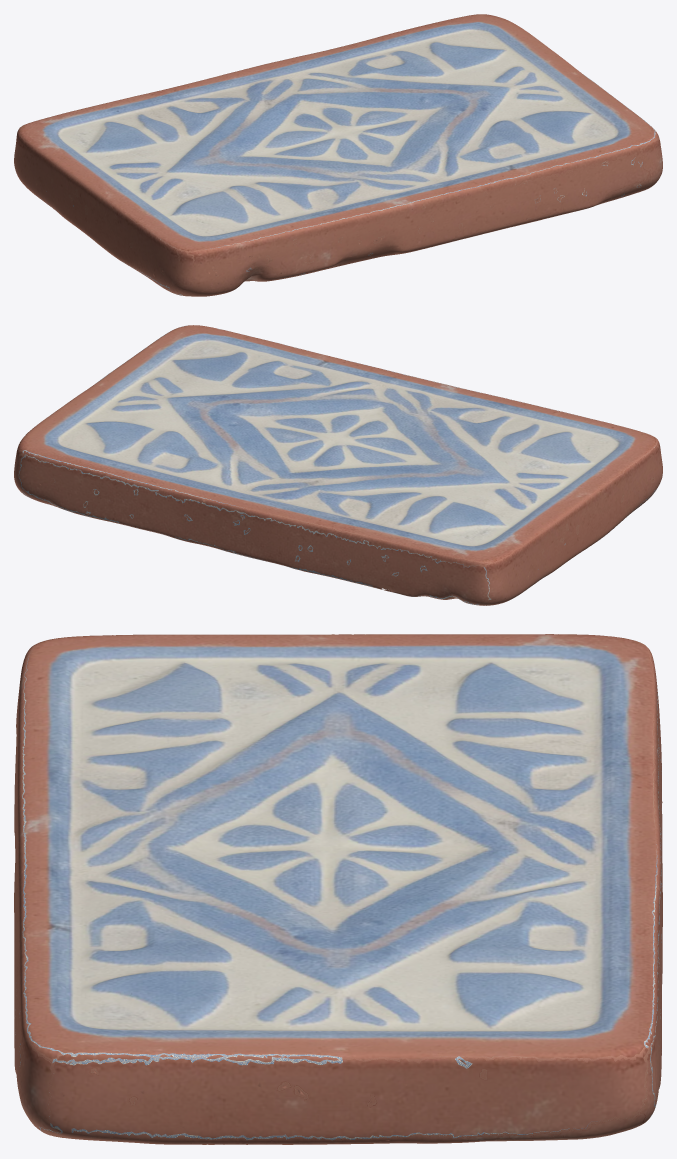
3 views of the same model, one above another, from view 1: azimuth 30°, elevation 25°; view 2: azimuth 150°, elevation 25°; view 3: azimuth 270°, elevation 25° (orthographic). The views are drawn at different scales.
Bounding box in the file's own units: 1.75 × 0.1962 × 1.12.
1 material, 1 textured.
